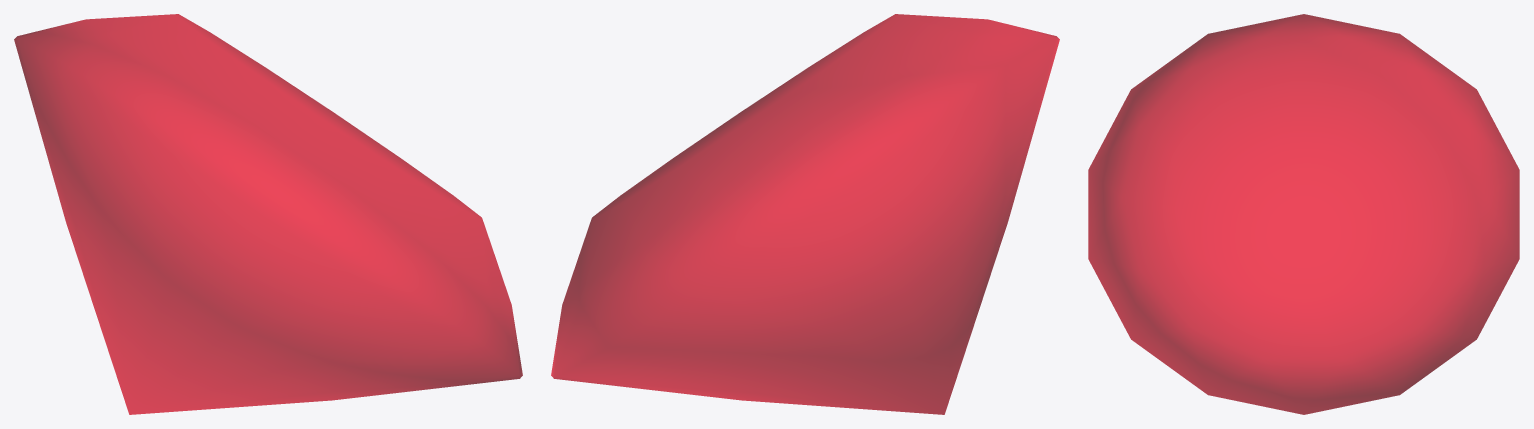
File: crystalRed.fbx
The picture shows the model from 3 angles, left to right: view 1: azimuth 30°, elevation 25°; view 2: azimuth 150°, elevation 25°; view 3: azimuth 270°, elevation 25°; orthographic projection. The views are drawn at different scales.
Visible parts, largest first — view 1: Gem_001; view 2: Gem_001; view 3: Gem_001.
Part boxes in pixels (x1,y1,x2,y2): Gem_001: [14, 14, 522, 414]; Gem_001: [551, 14, 1059, 414]; Gem_001: [1088, 14, 1519, 414].
Size of the model in its own units: 1.53 by 1.3 by 1.95.
